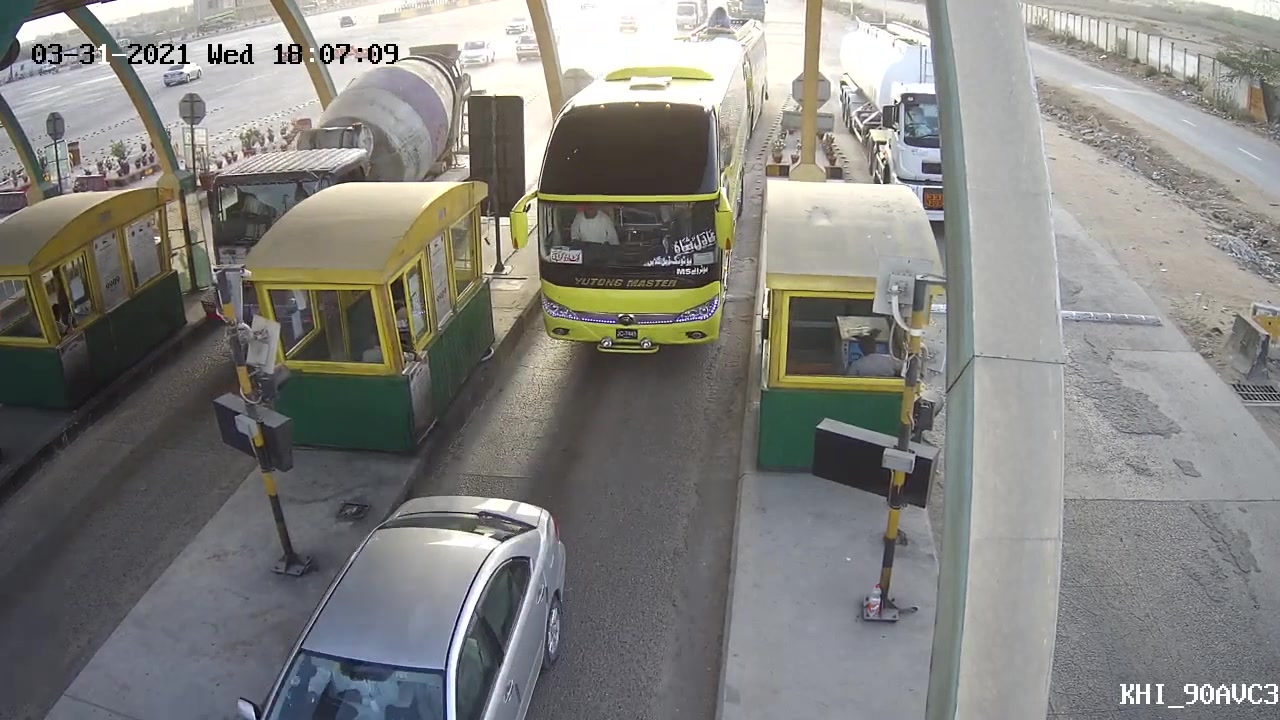F4: (502, 33, 769, 363)
